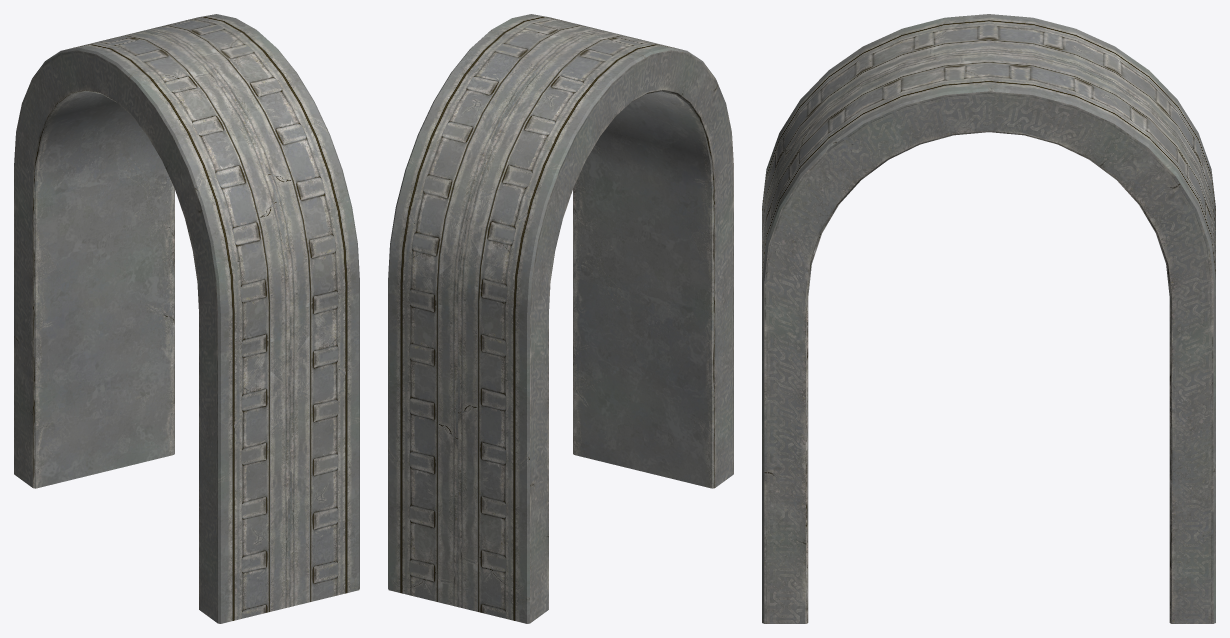
File: FBX_Doorway_Smooth.fbx
The picture shows the model from 3 angles, left to right: view 1: azimuth 30°, elevation 25°; view 2: azimuth 150°, elevation 25°; view 3: azimuth 270°, elevation 25°; orthographic projection. The views are drawn at different scales.
Parts seen in each view (by area): view 1: Doorway_Smooth; view 2: Doorway_Smooth; view 3: Doorway_Smooth.
Boxes of the visible parts, x1,y1,x2,y2 form: Doorway_Smooth: (14, 14, 359, 623); Doorway_Smooth: (388, 14, 733, 623); Doorway_Smooth: (762, 14, 1215, 623).
Bounding box in the file's own units: 100 × 327 × 251.
1 material, 1 textured.
